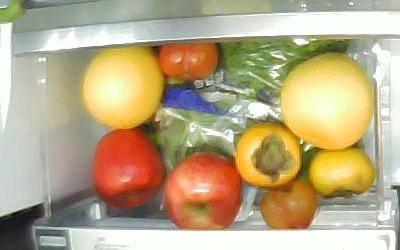apple: (164, 152, 241, 231), (91, 127, 164, 208)
grapefruit: (280, 53, 373, 151), (82, 45, 164, 126)
persimmon: (233, 124, 301, 189), (308, 150, 375, 197)
prune: (260, 178, 315, 229), (158, 42, 218, 79)
